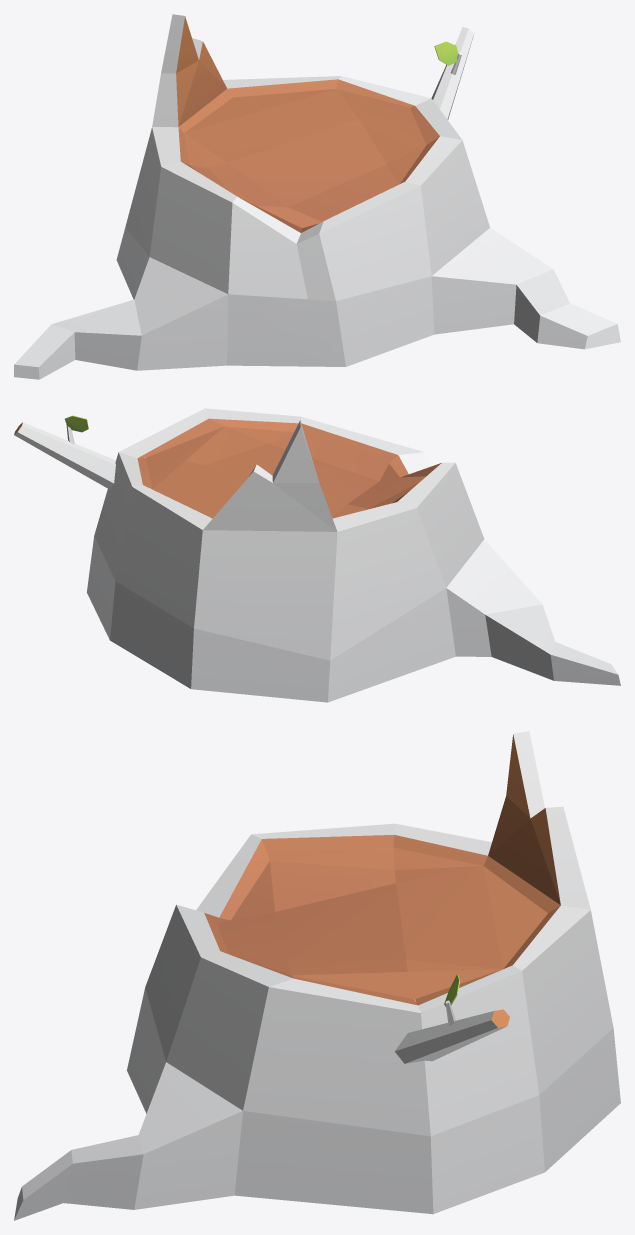
Rendered from TreeStump.fbx.
3 views of the same model, one above another, from view 1: azimuth 30°, elevation 25°; view 2: azimuth 150°, elevation 25°; view 3: azimuth 270°, elevation 25° (orthographic). The views are drawn at different scales.
Visible parts, largest first — view 1: TreeStump; view 2: TreeStump; view 3: TreeStump.
Part boxes in pixels (x1=…): TreeStump: x1=14, y1=14, x2=620, y2=379; TreeStump: x1=14, y1=408, x2=620, y2=702; TreeStump: x1=14, y1=731, x2=620, y2=1220.
Size of the model in its own units: 1.36 by 0.6216 by 1.03.
